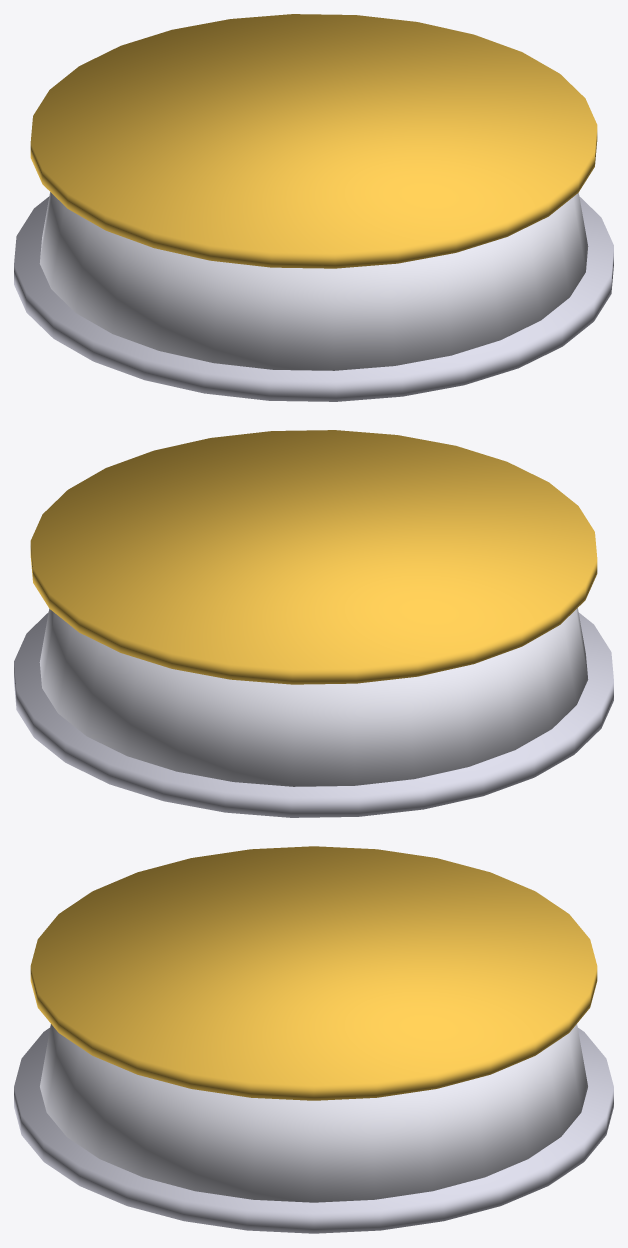
The model's file is Pedestal.fbx.
3 renders of one model, top to bottom at view 1: azimuth 30°, elevation 25°; view 2: azimuth 150°, elevation 25°; view 3: azimuth 270°, elevation 25°, orthographic.
Visible parts, largest first — view 1: Pedestal; view 2: Pedestal; view 3: Pedestal.
Part boxes in pixels (<box>): Pedestal: <box>14,14,613,401</box>; Pedestal: <box>14,430,613,817</box>; Pedestal: <box>14,846,613,1233</box>.
Size of the model in its own units: 10.8 by 2.8 by 10.8.
Materials: 1 (1 with a texture image).
